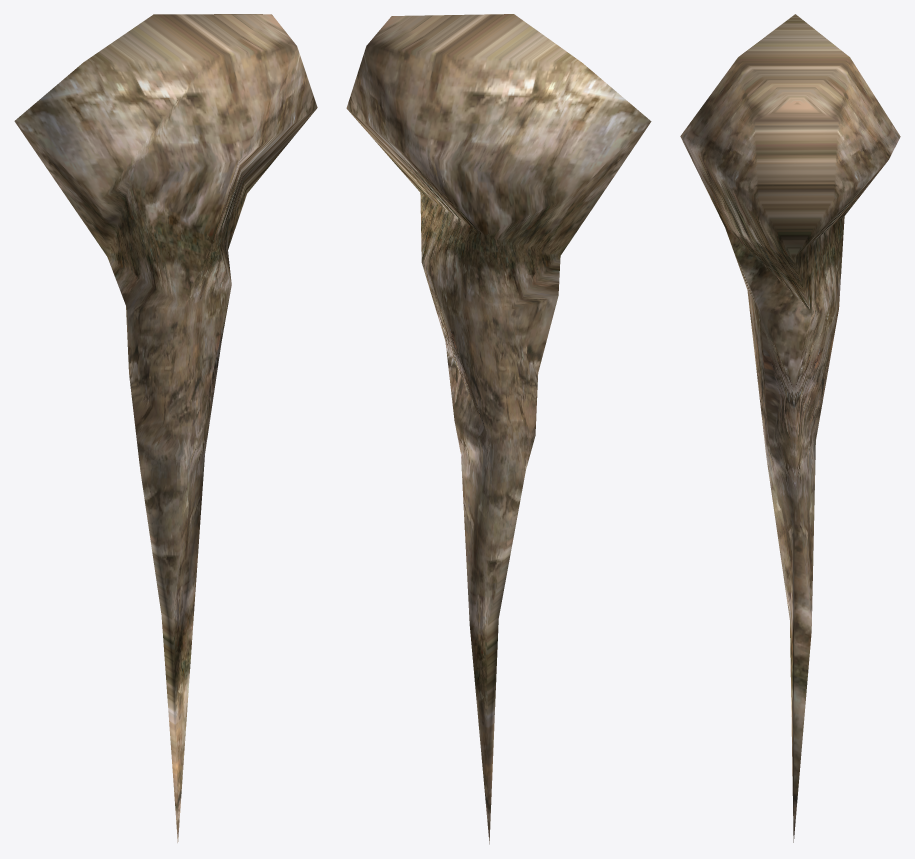
Rendered from thm_all_cave_stalagtite_c1_l0.fbx.
The picture shows the model from 3 angles, left to right: view 1: azimuth 30°, elevation 25°; view 2: azimuth 150°, elevation 25°; view 3: azimuth 270°, elevation 25°; orthographic projection. The views are drawn at different scales.
Visible parts, largest first — view 1: mesh_node; view 2: mesh_node; view 3: mesh_node.
Boxes of the visible parts, x1=… form: mesh_node: x1=14, y1=14, x2=317, y2=842; mesh_node: x1=346, y1=14, x2=651, y2=844; mesh_node: x1=680, y1=14, x2=900, y2=842.
Size of the model in its own units: 2.47 by 6.68 by 1.69.
